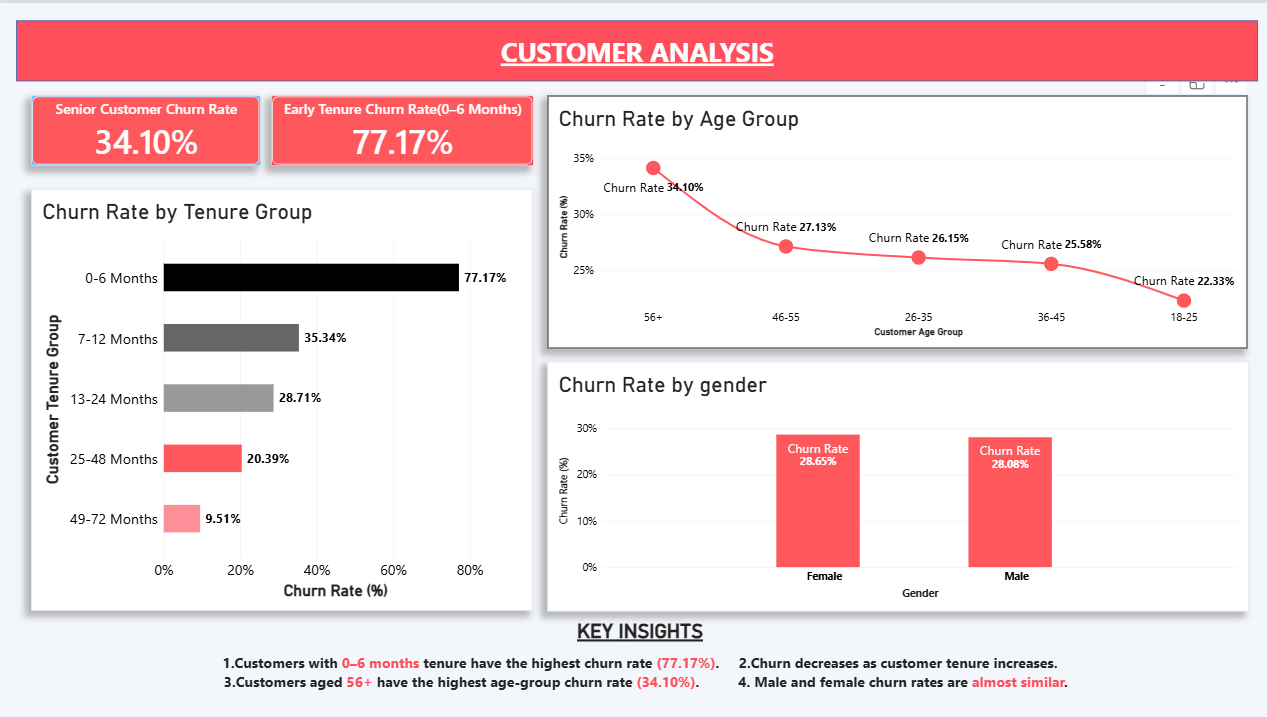

Layout of this report page (visuals, bound fields, positions):
{"tool":"powerbi","page":{"name":"Customer Analysis","canvas":[1920,1080],"ordinal":1},"visuals":[{"type":"clusteredBarChart","fields":{"Category":["public telecom_customers.Tenure Group"],"Y":["public telecom_customers.Churn Rate"]},"box":[47.8,280.9,756.7,636.3],"z":5000},{"type":"lineChart","title":"Churn Rate by Age Group","fields":{"Category":["public telecom_customers.Age Group"],"Y":["public telecom_customers.Churn Rate"]},"box":[825.5,139.5,1058,382],"z":6000},{"type":"clusteredColumnChart","fields":{"Category":["public telecom_customers.gender"],"Y":["public telecom_customers.Churn Rate"]},"box":[825.5,540.8,1058.6,376.4],"z":7000},{"type":"textbox","title":"KEY  INSIGHTS","box":[47.8,930.6,1836.3,124.2],"z":7001},{"type":"cardVisual","fields":{"Data":["public telecom_customers.Senior Customer Churn Rate"]},"box":[47.8,139.5,346,106],"z":7002},{"type":"cardVisual","fields":{"Data":["public telecom_customers.Early Tenure Churn Rate"]},"box":[408.9,139.5,396,106],"z":7003},{"type":"shape","box":[24.8,26.8,1874.5,91.7],"z":7004}]}

Visuals, with their boxes in screenshot pixels (x1, y1, x2, y2), scaled from the page's 1920x1080 canvas onto the 1267x717 screenshot:
clusteredBarChart - public telecom_customers.Tenure Group x public telecom_customers.Churn Rate: l=32, t=186, r=531, b=609
"Churn Rate by Age Group" lineChart: l=545, t=93, r=1243, b=346
clusteredColumnChart - public telecom_customers.gender x public telecom_customers.Churn Rate: l=545, t=359, r=1243, b=609
"KEY  INSIGHTS" textbox: l=32, t=618, r=1243, b=700
cardVisual - public telecom_customers.Senior Customer Churn Rate: l=32, t=93, r=260, b=163
cardVisual - public telecom_customers.Early Tenure Churn Rate: l=270, t=93, r=531, b=163
shape: l=16, t=18, r=1253, b=79
